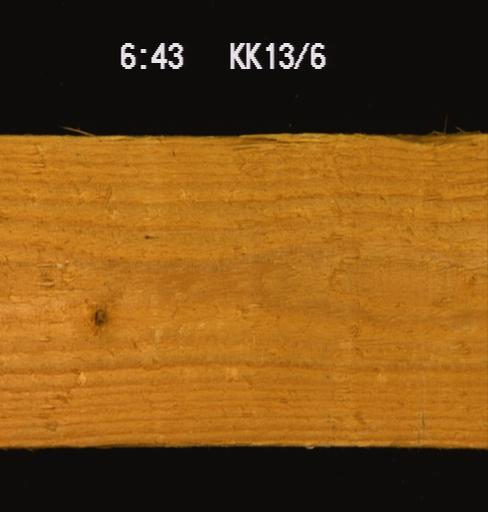dry_knot: (90, 302, 110, 329)
split: (243, 133, 485, 166)
